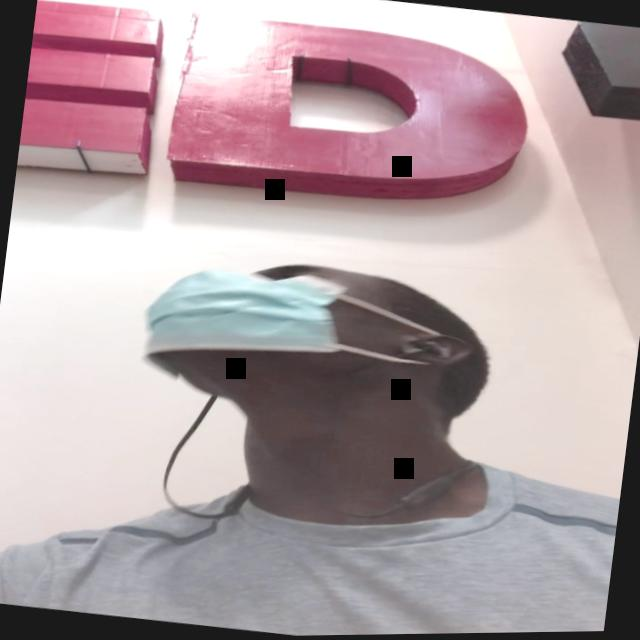Mask: (134, 242, 440, 414)
